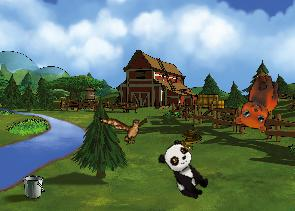bear: (233, 71, 280, 133)
eagle: (98, 104, 153, 151)
panda: (154, 137, 215, 204)
